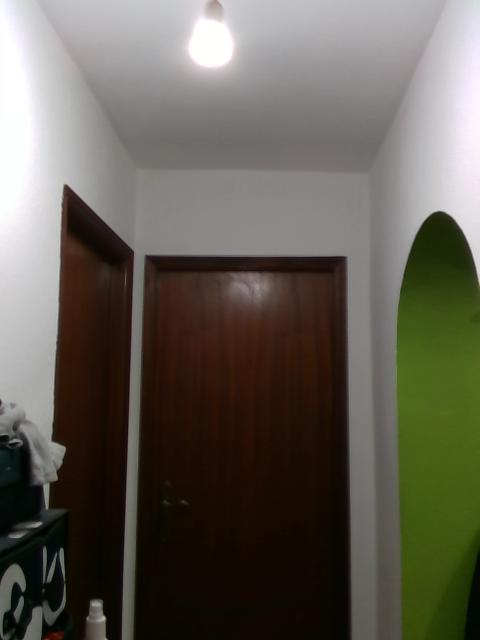door: (148, 267, 336, 640), (63, 221, 118, 640)
